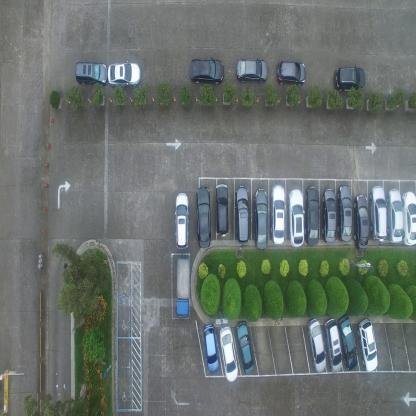car: (306, 316, 326, 373), (338, 314, 358, 370), (358, 317, 378, 372), (219, 326, 238, 382), (196, 184, 212, 248), (370, 184, 387, 244), (189, 56, 224, 85), (324, 317, 342, 373), (236, 320, 255, 373), (173, 192, 190, 251), (175, 256, 191, 318), (270, 183, 286, 245), (386, 189, 404, 244), (254, 187, 269, 250), (288, 189, 304, 247), (334, 64, 366, 92), (108, 61, 141, 88), (235, 57, 268, 84), (74, 60, 108, 86), (305, 185, 319, 246), (235, 185, 249, 245), (322, 188, 337, 244), (276, 58, 306, 86), (338, 183, 352, 242), (354, 195, 369, 250), (203, 323, 219, 374), (402, 190, 416, 247), (215, 182, 228, 237)
